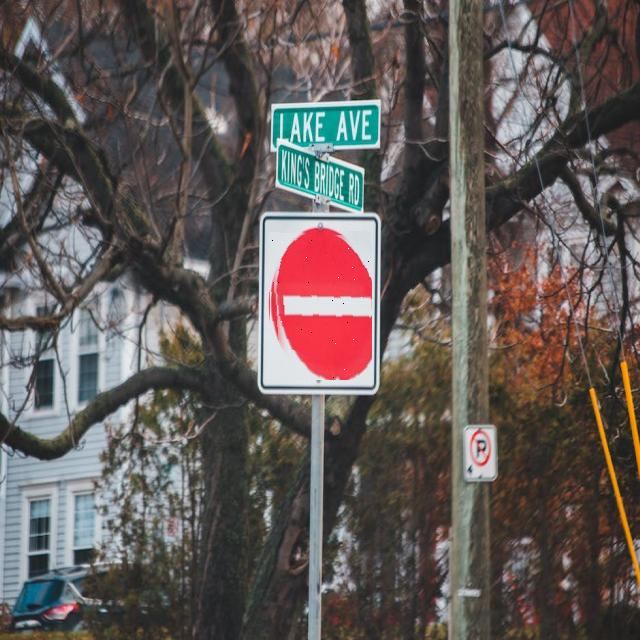no entry: (269, 231, 372, 380)
